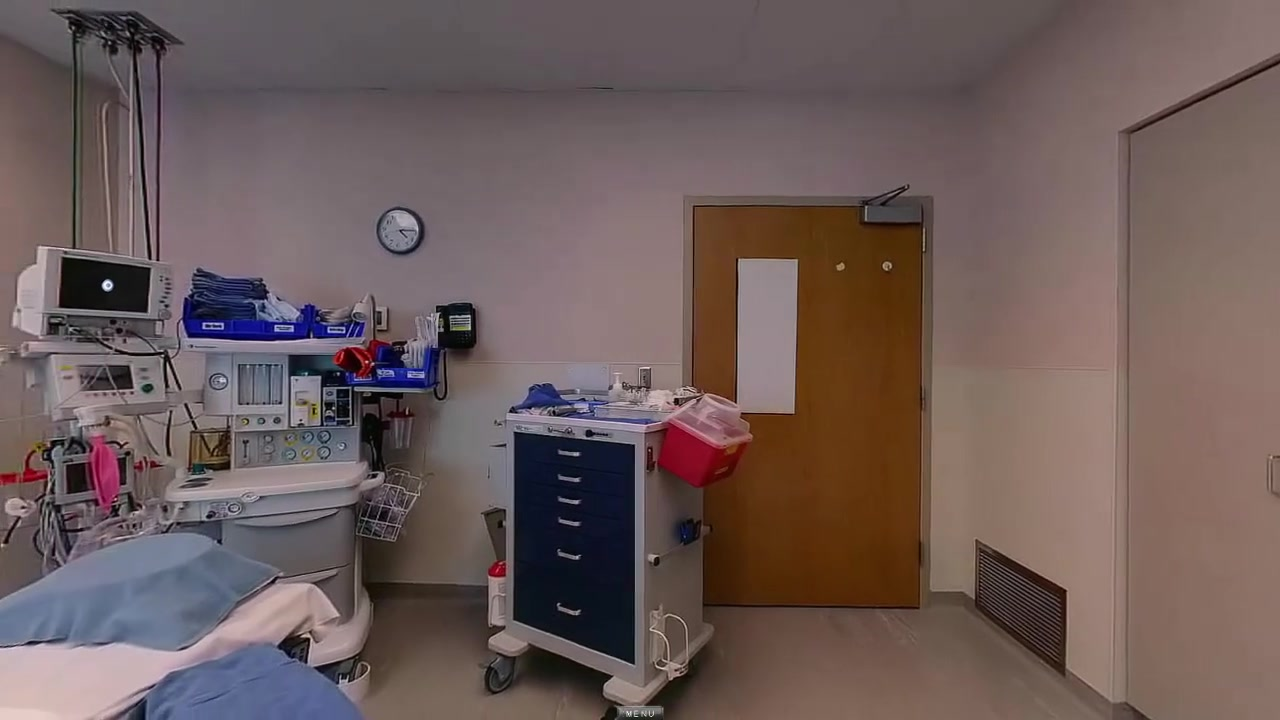handle: (235, 510, 340, 530), (1262, 447, 1280, 502), (285, 569, 339, 587), (356, 467, 387, 495), (553, 543, 585, 566), (553, 598, 584, 621), (553, 444, 584, 463), (553, 470, 585, 486), (554, 492, 584, 509), (555, 514, 585, 531)
hospital_bed: (1, 533, 368, 720)
medical_drawer: (481, 392, 716, 720)
telephone: (434, 301, 479, 354)
ventilator: (15, 237, 178, 342)
